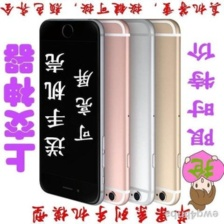phone: (64, 16, 135, 209), (38, 16, 108, 207), (90, 18, 159, 208), (124, 18, 185, 208)
